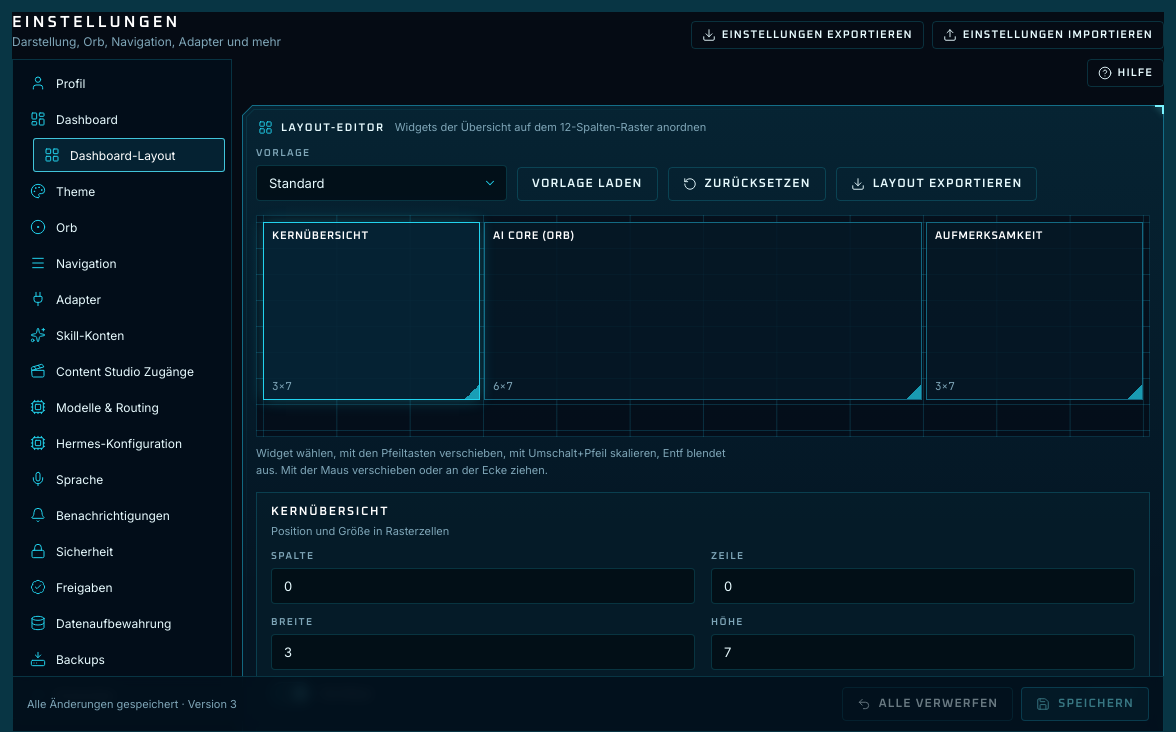
Test: layout editor › resets to the built-in default layout
Click the button "Zurücksetzen".
click(747, 184)  # box [668,167,826,201]
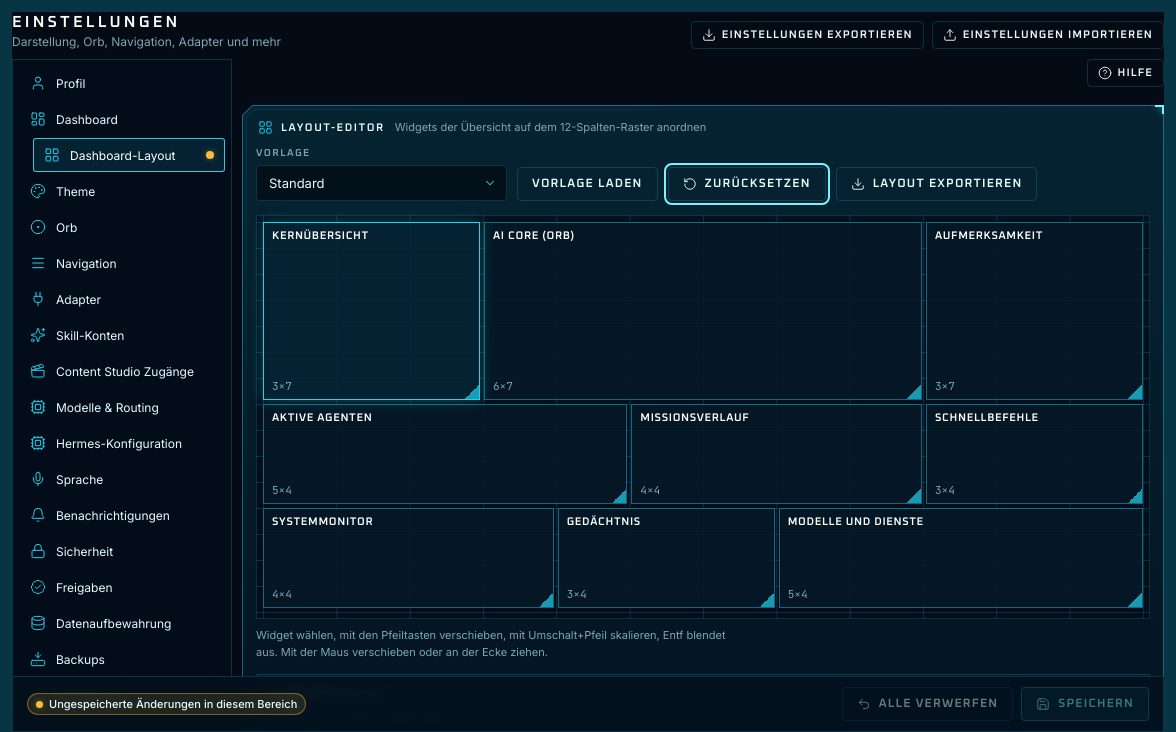
Check: the button with aria-label "Missionsverlauf:" is shown, box [631,404,922,504]
